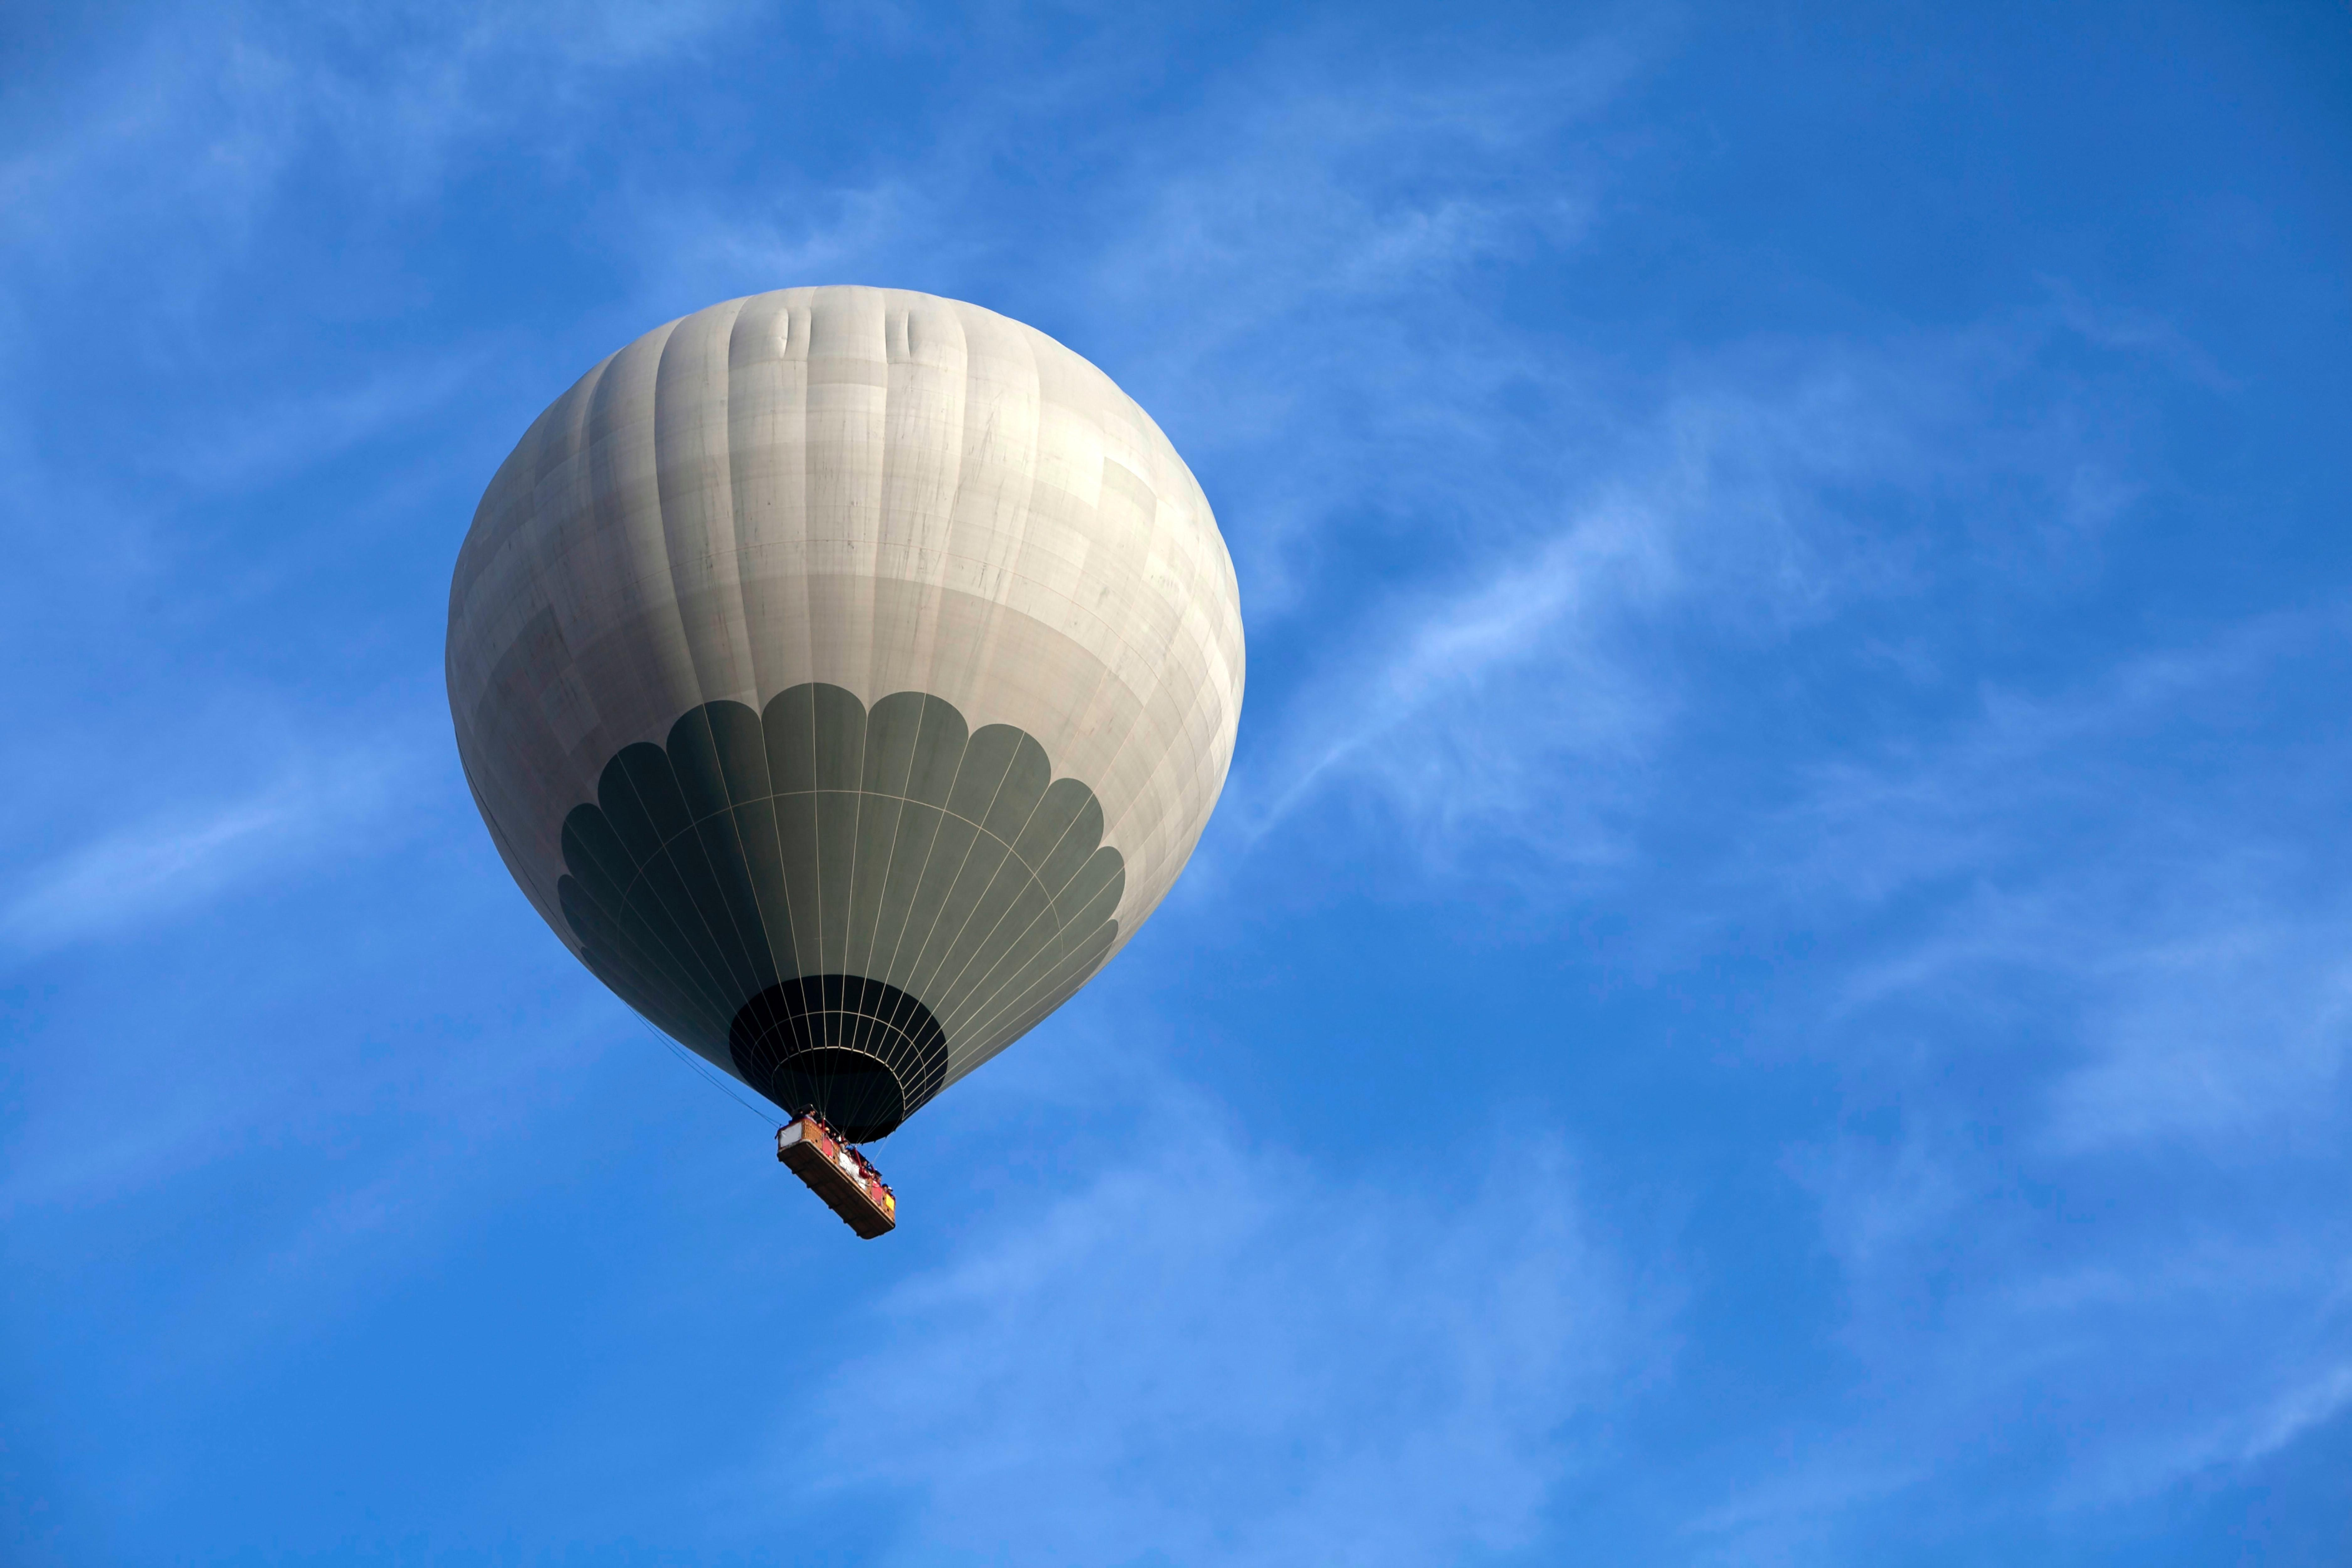hot air ballon: (441, 287, 1248, 1249)
